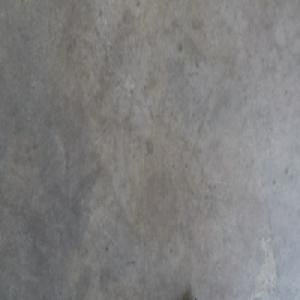Pliers: (191, 292, 202, 299)
